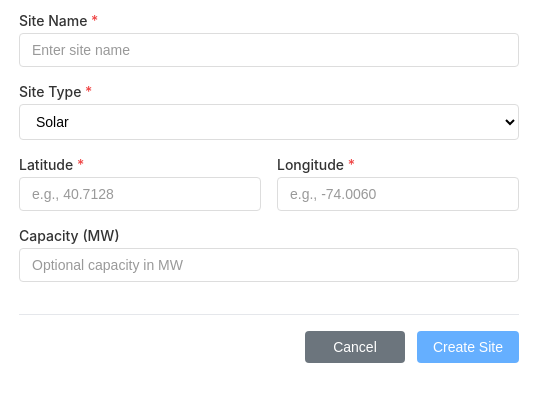
Test case: SiteForm › Form Validation › validates site name length
Test minimum length
Type "A" into the field labelled "Site Name *". click: (269, 50)
box: [19,33,519,67]
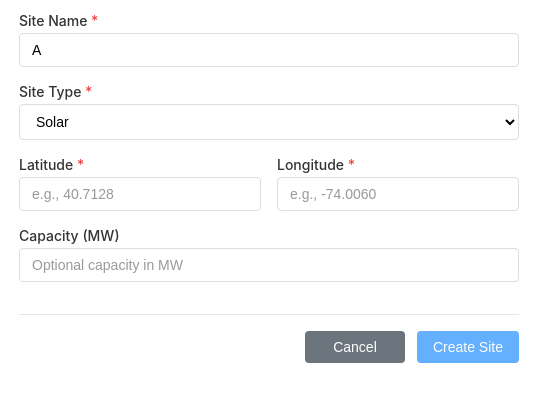
Leave the field labelled "Site Name *", box [19,33,519,67]
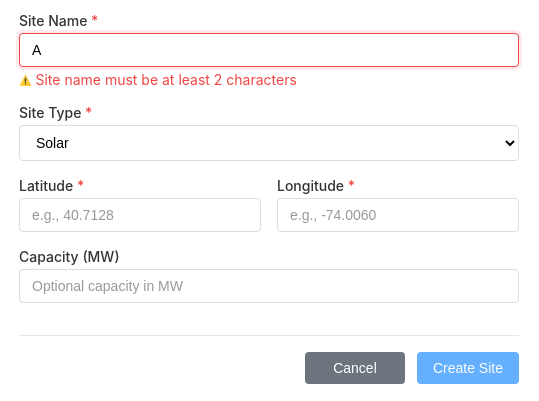
Check: the text "Site name must be at least 2 characters" is shown, box [36,71,297,88]
